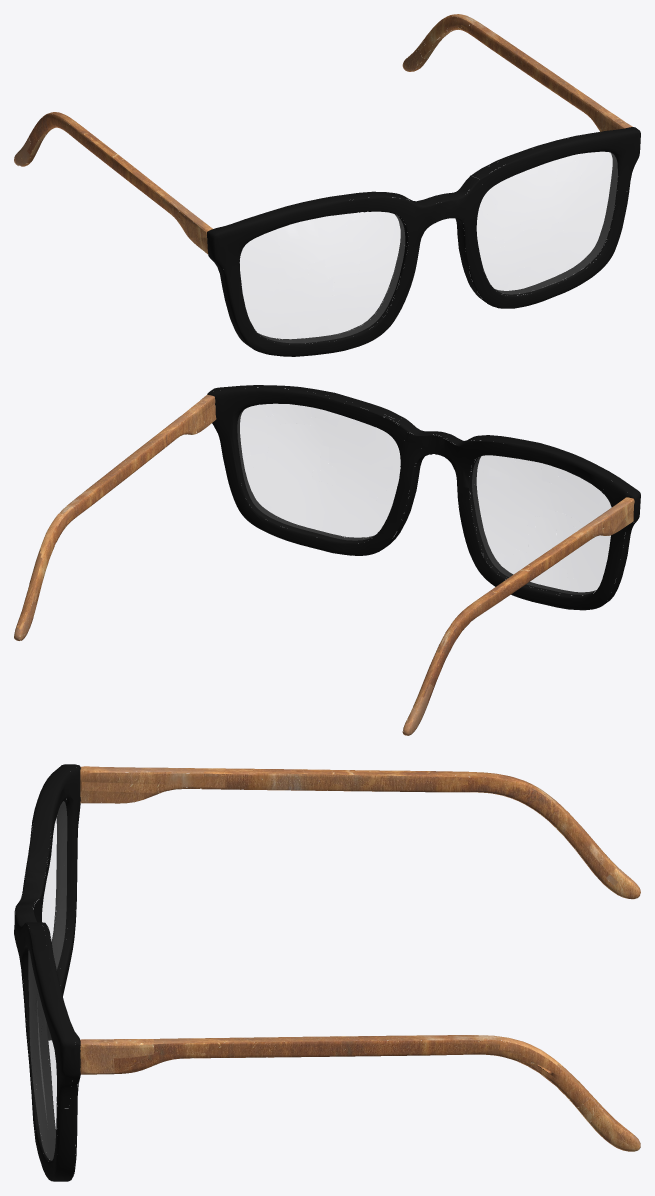
The picture shows the model from 3 angles, top to bottom: view 1: azimuth 30°, elevation 25°; view 2: azimuth 150°, elevation 25°; view 3: azimuth 270°, elevation 25°; orthographic projection. The views are drawn at different scales.
Visible parts, largest first — view 1: Glasses_3, Frame_1, Handles_2; view 2: Glasses_3, Frame_1, Handles_2; view 3: Handles_2, Frame_1, Glasses_3.
Boxes of the visible parts, x1=… form: Glasses_3: x1=240, y1=152, x2=617, y2=342; Frame_1: x1=207, y1=127, x2=640, y2=356; Handles_2: x1=14, y1=14, x2=632, y2=254; Glasses_3: x1=237, y1=404, x2=610, y2=594; Frame_1: x1=207, y1=385, x2=640, y2=610; Handles_2: x1=14, y1=394, x2=634, y2=735; Handles_2: x1=80, y1=766, x2=640, y2=1151; Frame_1: x1=14, y1=764, x2=80, y2=1181; Glasses_3: x1=28, y1=801, x2=66, y2=1160.
Bounding box in the file's own units: 1.41 × 0.4825 × 1.34.
3 materials, 1 textured.
